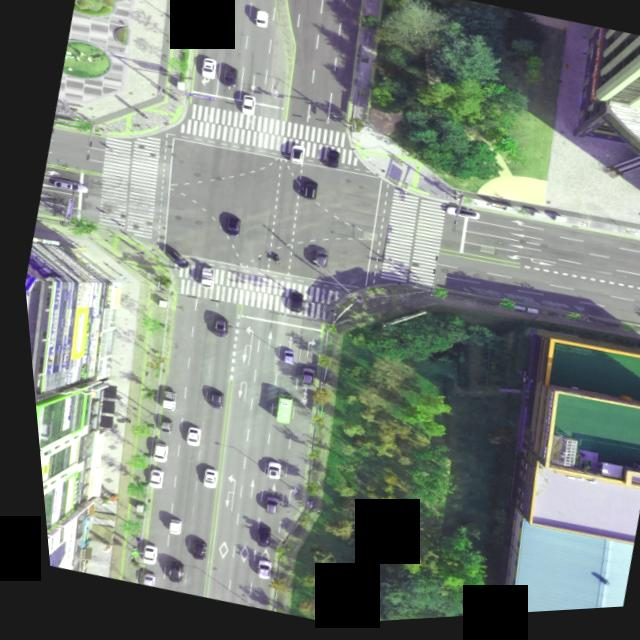car: (154, 247, 190, 273), (438, 208, 475, 226), (49, 178, 85, 196), (152, 561, 174, 584), (235, 95, 256, 119), (279, 293, 300, 317), (217, 217, 238, 240), (242, 527, 263, 550), (242, 560, 262, 584), (204, 316, 224, 339), (174, 426, 194, 449), (129, 543, 149, 566), (190, 469, 210, 491), (305, 250, 325, 272), (284, 146, 304, 168), (295, 181, 315, 203), (141, 443, 161, 465), (319, 150, 339, 172), (197, 58, 216, 81), (138, 468, 157, 491), (179, 540, 198, 562), (216, 68, 235, 90), (256, 461, 275, 483), (154, 517, 173, 537), (201, 392, 220, 412), (252, 497, 269, 518), (251, 13, 269, 32), (291, 368, 308, 388), (130, 572, 146, 589), (148, 420, 164, 436), (276, 352, 290, 368)
small_bus: (263, 396, 288, 428)
small_truck: (188, 266, 211, 292), (152, 390, 173, 414)
